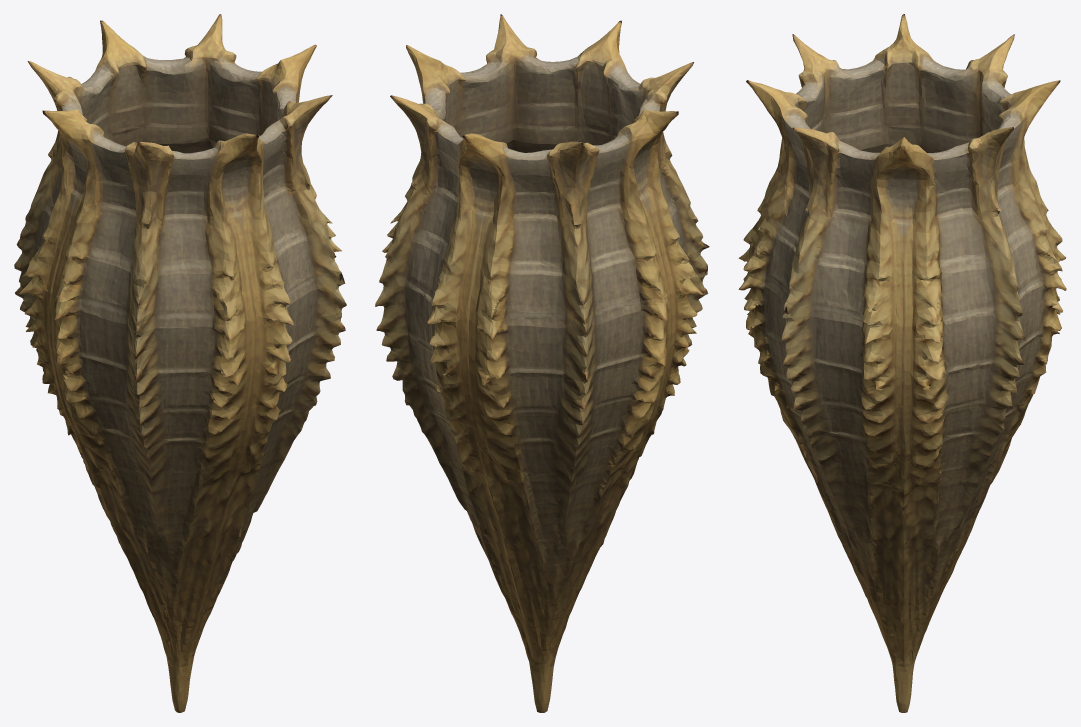
3 renders of one model, left to right at view 1: azimuth 30°, elevation 25°; view 2: azimuth 150°, elevation 25°; view 3: azimuth 270°, elevation 25°, orthographic.
Visible parts, largest first — view 1: geometry_0; view 2: geometry_0; view 3: geometry_0.
Boxes of the visible parts, x1,y1,x2,y2 form: geometry_0: (14, 14, 346, 712); geometry_0: (375, 14, 709, 712); geometry_0: (738, 14, 1066, 712).
Size of the model in its own units: 0.0709 by 0.15 by 0.0707.
1 material, 1 textured.
